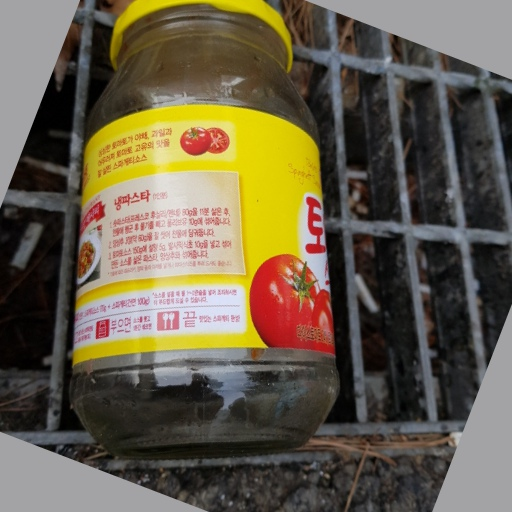Glass_5: (69, 5, 338, 460)
